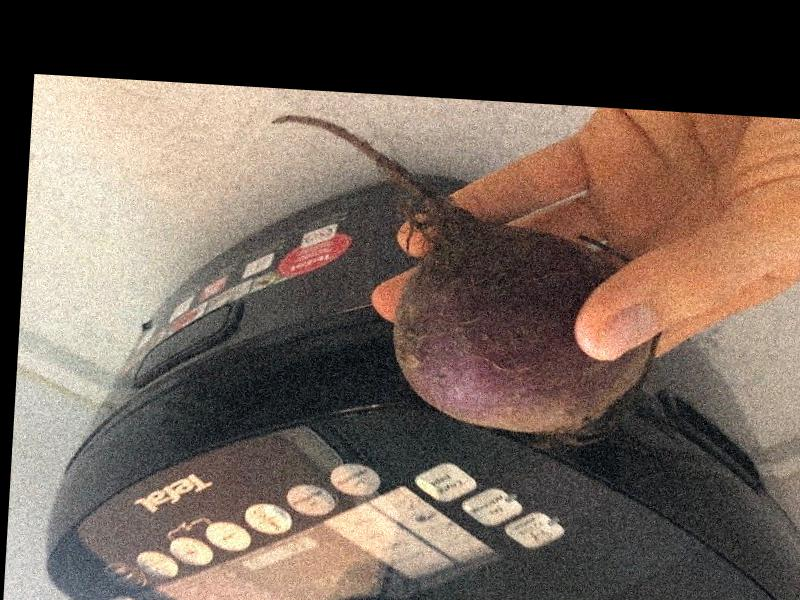Beet: (255, 115, 668, 452)
